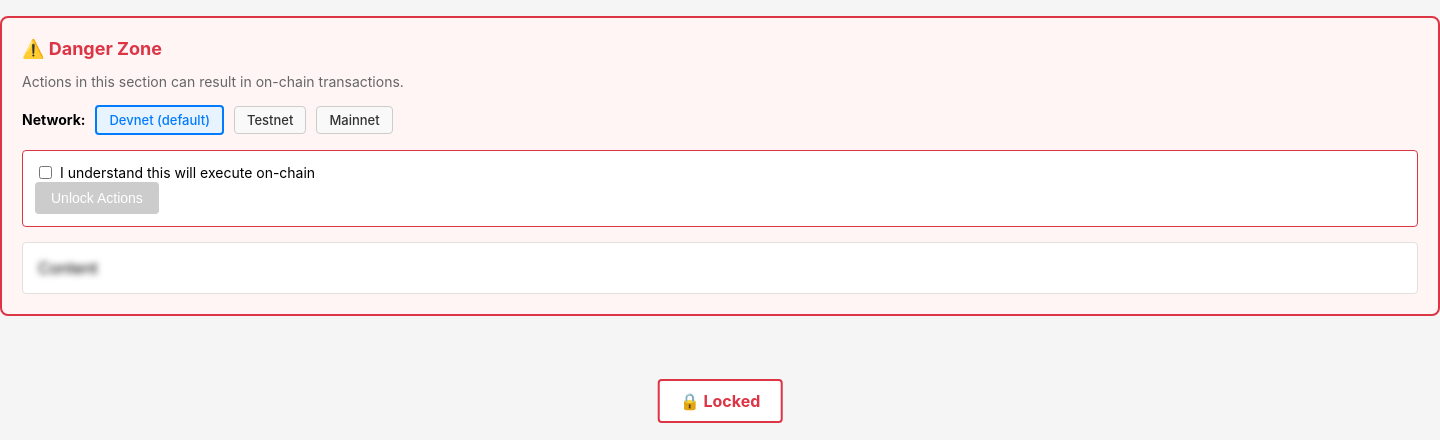
DangerZone › should unlock content when unlock button is clicked
The width and height of the screenshot is (1440, 440).
Step 1. Click the checkbox → [46, 172], box [39,166,52,179]
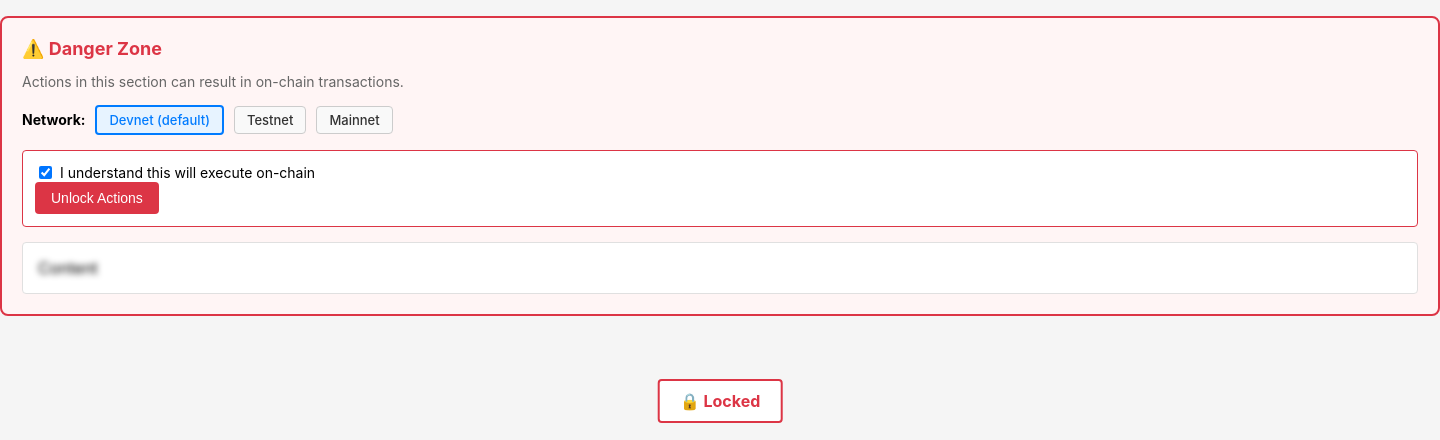
Step 2. Click the button "Unlock Actions" → [97, 198], box [35,182,159,214]
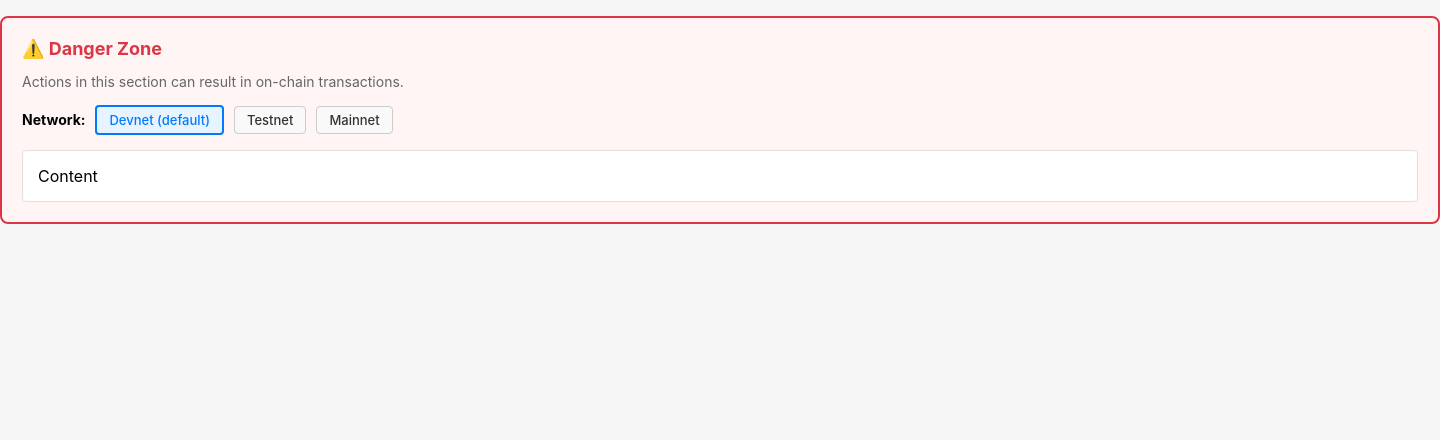
expect the text "🔒 Locked" is gone: met
